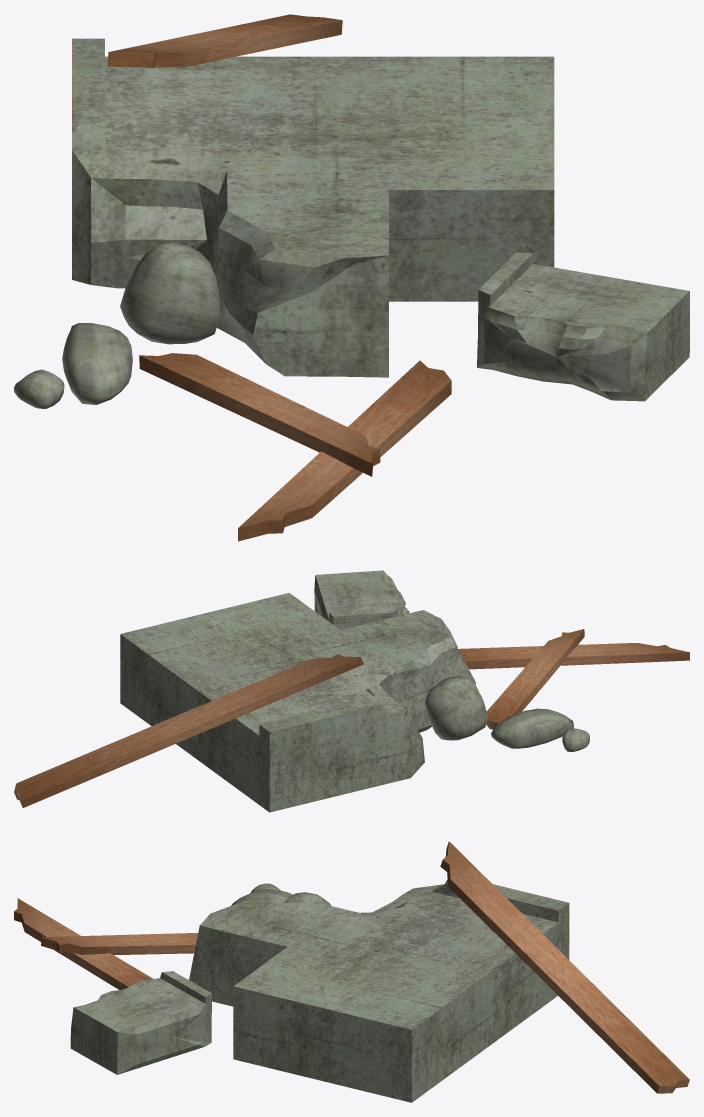
Rendered from Rubble_02.obj.
3 renders of one model, top to bottom at view 1: azimuth 30°, elevation 25°; view 2: azimuth 150°, elevation 25°; view 3: azimuth 270°, elevation 25°, orthographic. The views are drawn at different scales.
Visible parts, largest first — view 1: Rubble_02; view 2: Rubble_02; view 3: Rubble_02.
Boxes of the visible parts, x1,y1,x2,y2 form: Rubble_02: (14, 14, 689, 541); Rubble_02: (14, 570, 689, 812); Rubble_02: (14, 841, 689, 1102).
Size of the model in its own units: 220 by 64.79 by 305.
Materials: 1 (1 with a texture image).
